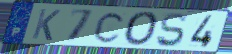4: (188, 14, 214, 50)
7: (68, 8, 94, 44)
C: (92, 11, 127, 45)
K: (30, 8, 63, 42)
O: (123, 10, 161, 47)
S: (155, 12, 188, 49)
